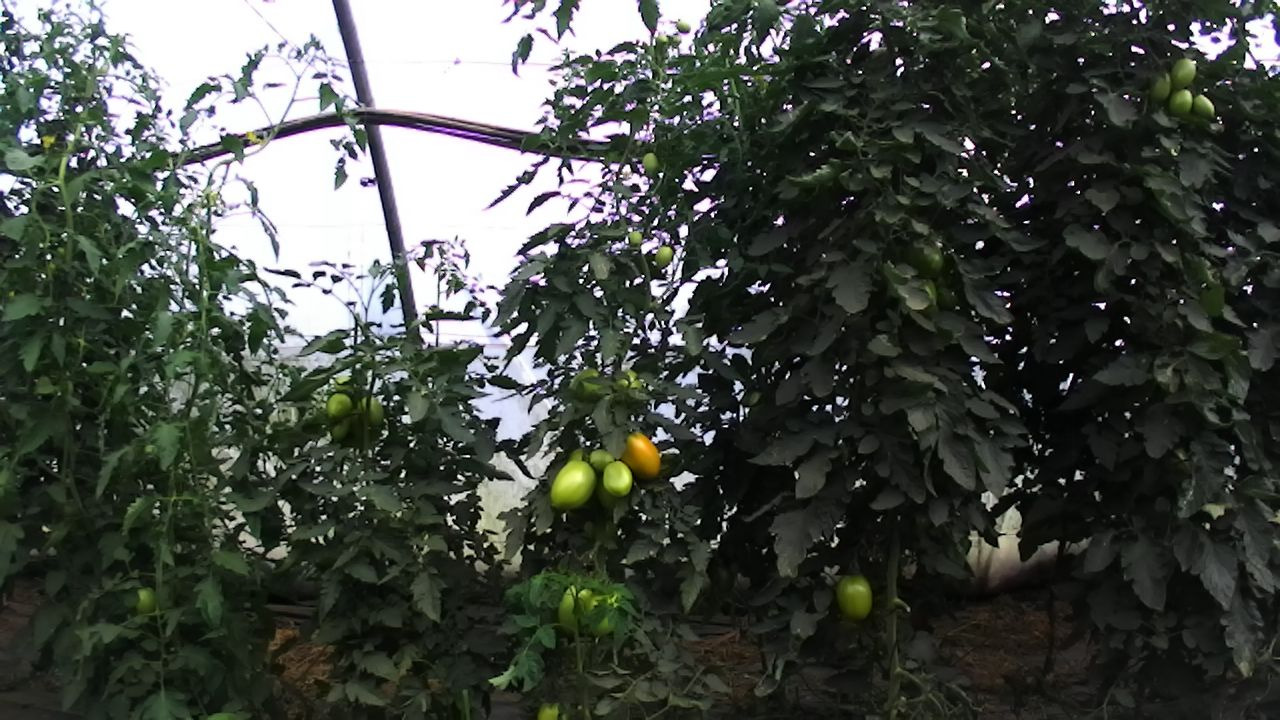tomato: (548, 457, 599, 514), (618, 428, 663, 485), (616, 428, 662, 483), (832, 570, 875, 625), (601, 459, 634, 499), (1167, 56, 1198, 90), (325, 390, 354, 421), (1166, 87, 1195, 117), (1190, 92, 1218, 121), (133, 584, 157, 616), (1149, 70, 1171, 103), (653, 244, 676, 270), (640, 151, 658, 177), (626, 229, 644, 247)
